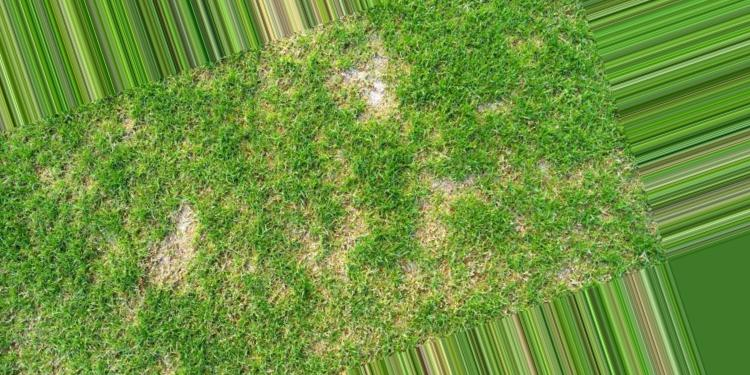patch: (292, 194, 379, 293), (146, 181, 228, 281), (418, 187, 492, 284), (347, 53, 422, 142)
